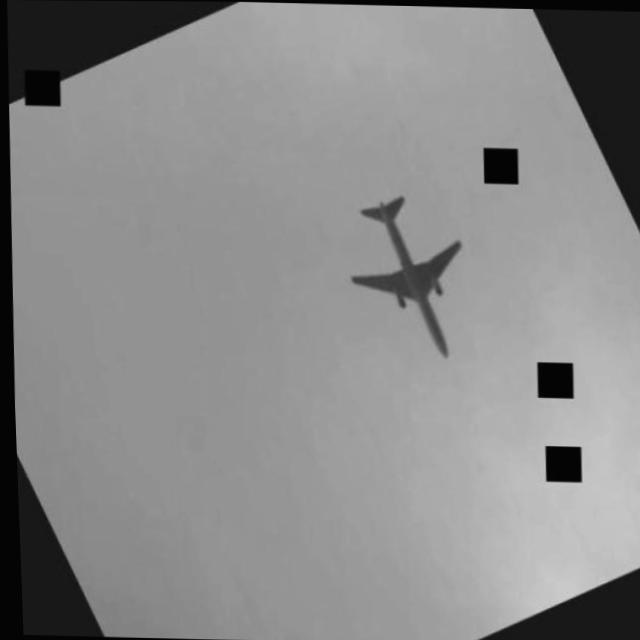aeroplane: (343, 190, 469, 357)
